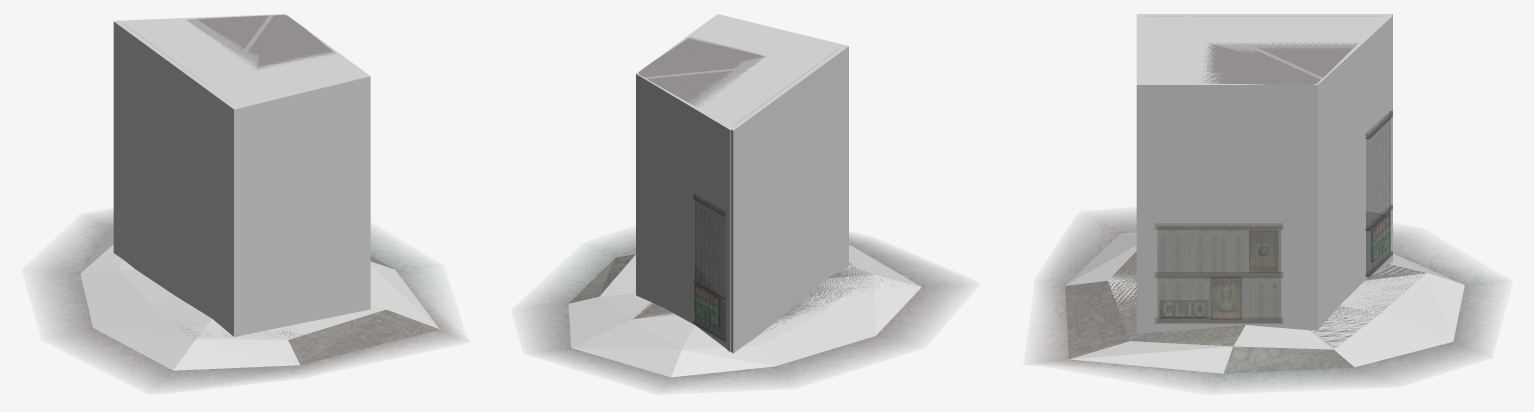
Rendered from source.glb.
3 renders of one model, left to right at view 1: azimuth 30°, elevation 25°; view 2: azimuth 150°, elevation 25°; view 3: azimuth 270°, elevation 25°, orthographic. The views are drawn at different scales.
Visible parts, largest first — view 1: coll_m206_0, state1_coll_m10a_0, state1_obj_d08e80, state2_obj_d1bc90, state1_coll_m206_0, obj_d02f20, state1_obj_d0b200; view 2: coll_m206_0, state1_coll_m206_0, state1_coll_m10a_0, state1_obj_d08e80, state2_obj_d1bc90, obj_d02f20, state1_obj_d0b200, obj_d01ff0, state1_obj_d0a630, obj_d05ab0; view 3: state1_coll_m206_0, coll_m206_0, state1_coll_m10a_0, state1_obj_d08e80, state2_obj_d1bc90, obj_d01ff0, obj_d02f20, state1_obj_d0b200, obj_d05220, state1_obj_d0a630, obj_d05ab0.
Part boxes in pixels (x1,y1,x2,y2): coll_m206_0: [113, 14, 370, 336]; state1_coll_m10a_0: [80, 228, 439, 370]; state1_obj_d08e80: [53, 218, 454, 381]; state2_obj_d1bc90: [61, 221, 449, 378]; state1_coll_m206_0: [117, 14, 367, 106]; obj_d02f20: [187, 15, 331, 67]; state1_obj_d0b200: [131, 15, 335, 67]; coll_m206_0: [636, 14, 848, 353]; state1_coll_m206_0: [636, 17, 843, 352]; state1_coll_m10a_0: [568, 245, 921, 377]; state1_obj_d08e80: [541, 238, 949, 385]; state2_obj_d1bc90: [550, 240, 940, 382]; obj_d02f20: [639, 39, 763, 341]; state1_obj_d0b200: [639, 37, 828, 124]; obj_d01ff0: [695, 194, 725, 340]; state1_obj_d0a630: [695, 265, 725, 339]; obj_d05ab0: [694, 285, 718, 326]; state1_coll_m206_0: [1141, 15, 1392, 333]; coll_m206_0: [1136, 14, 1392, 333]; state1_coll_m10a_0: [1065, 232, 1464, 373]; state1_obj_d08e80: [1047, 220, 1487, 383]; state2_obj_d1bc90: [1054, 224, 1480, 380]; obj_d01ff0: [1157, 112, 1390, 321]; obj_d02f20: [1155, 43, 1392, 323]; state1_obj_d0b200: [1206, 45, 1351, 84]; obj_d05220: [1160, 231, 1278, 319]; state1_obj_d0a630: [1366, 212, 1390, 275]; obj_d05ab0: [1372, 213, 1390, 261].
Size of the model in its own units: 543 by 331 by 567.
Materials: 22 (22 with a texture image).
